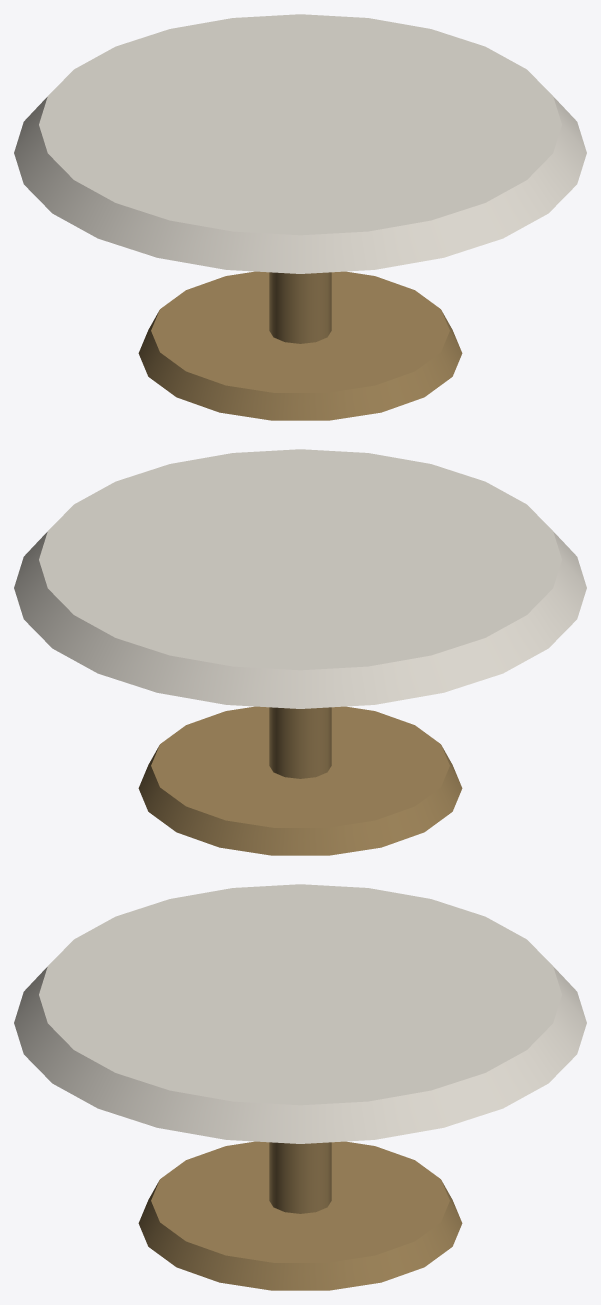
The model's file is coffee-table.glb.
3 renders of one model, top to bottom at view 1: azimuth 30°, elevation 25°; view 2: azimuth 150°, elevation 25°; view 3: azimuth 270°, elevation 25°, orthographic.
Bounding box in the file's own units: 0.92 × 0.405 × 0.92.
